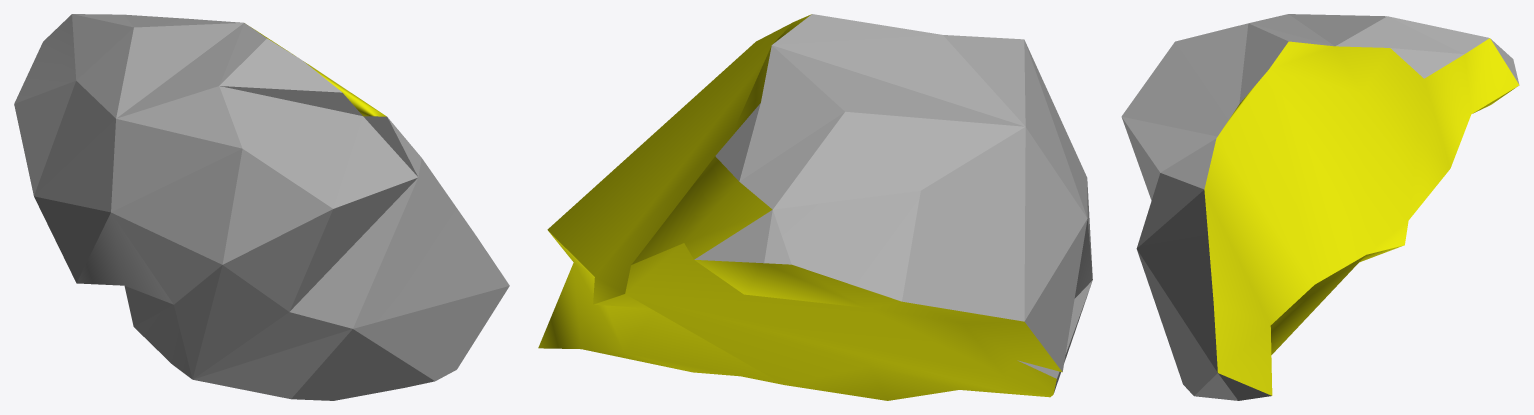
The model's file is rock_shard2.fbx.
3 views of the same model, side by side, from view 1: azimuth 30°, elevation 25°; view 2: azimuth 150°, elevation 25°; view 3: azimuth 270°, elevation 25° (orthographic). The views are drawn at different scales.
Visible parts, largest first — view 1: rock_shard2; view 2: rock_shard2; view 3: rock_shard2.
Part boxes in pixels (x1,y1,x2,y2): rock_shard2: (14, 14, 509, 400); rock_shard2: (538, 14, 1092, 400); rock_shard2: (1121, 14, 1519, 400).
Bounding box in the file's own units: 56.15 × 44.33 × 54.26.
